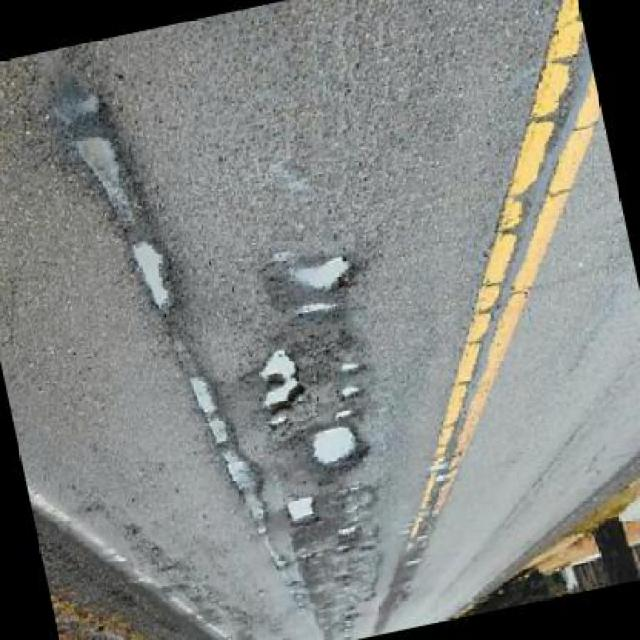pothole: (74, 128, 148, 234), (253, 345, 312, 417), (310, 422, 373, 484), (132, 237, 180, 315), (294, 256, 364, 302), (222, 446, 268, 505), (188, 373, 226, 422), (285, 492, 323, 532), (297, 296, 345, 324), (338, 380, 368, 405), (340, 360, 368, 378), (336, 524, 362, 542), (336, 407, 358, 425)
